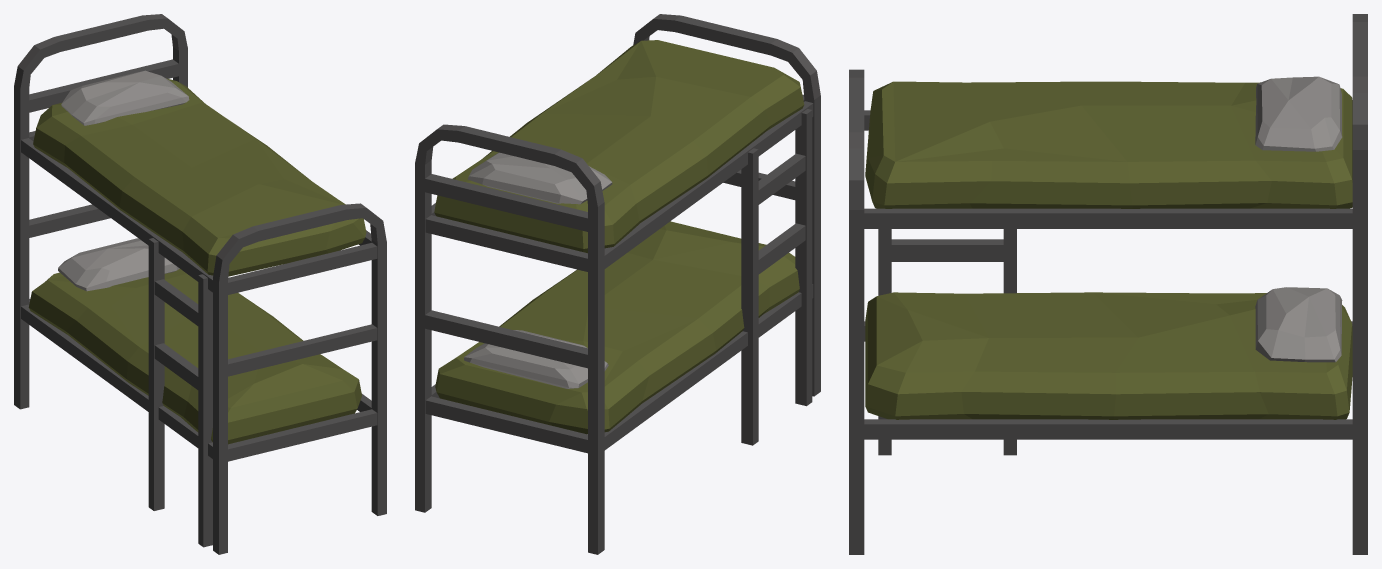
The model's file is SM_Prop_Bed_Military_Bunk_01.fbx.
3 renders of one model, left to right at view 1: azimuth 30°, elevation 25°; view 2: azimuth 150°, elevation 25°; view 3: azimuth 270°, elevation 25°, orthographic. The views are drawn at different scales.
Parts seen in each view (by area): view 1: SM_Prop_Bed_Military_Bunk_01; view 2: SM_Prop_Bed_Military_Bunk_01; view 3: SM_Prop_Bed_Military_Bunk_01.
Boxes of the visible parts, x1,y1,x2,y2 form: SM_Prop_Bed_Military_Bunk_01: [14, 14, 386, 554]; SM_Prop_Bed_Military_Bunk_01: [415, 14, 820, 554]; SM_Prop_Bed_Military_Bunk_01: [849, 14, 1367, 554].
Size of the model in its own units: 108 by 216 by 224.
